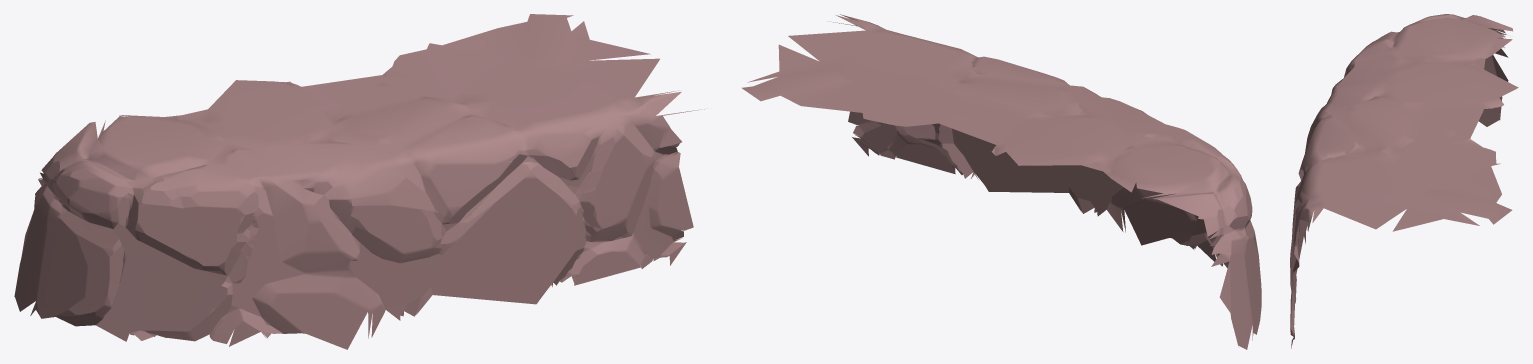
File: cliff_area_2.fbx_Cliff_Area_2_007LODs.fbx
3 views of the same model, side by side, from view 1: azimuth 30°, elevation 25°; view 2: azimuth 150°, elevation 25°; view 3: azimuth 270°, elevation 25° (orthographic). The views are drawn at different scales.
Visible parts, largest first — view 1: Cliff Area 2.007_LOD0; view 2: Cliff Area 2.007_LOD0; view 3: Cliff Area 2.007_LOD0.
Boxes of the visible parts, x1,y1,x2,y2 form: Cliff Area 2.007_LOD0: [14, 14, 706, 349]; Cliff Area 2.007_LOD0: [742, 14, 1261, 349]; Cliff Area 2.007_LOD0: [1290, 14, 1518, 348].
Size of what is drawn, in the model's own units: 5683 by 1656 by 2272.
